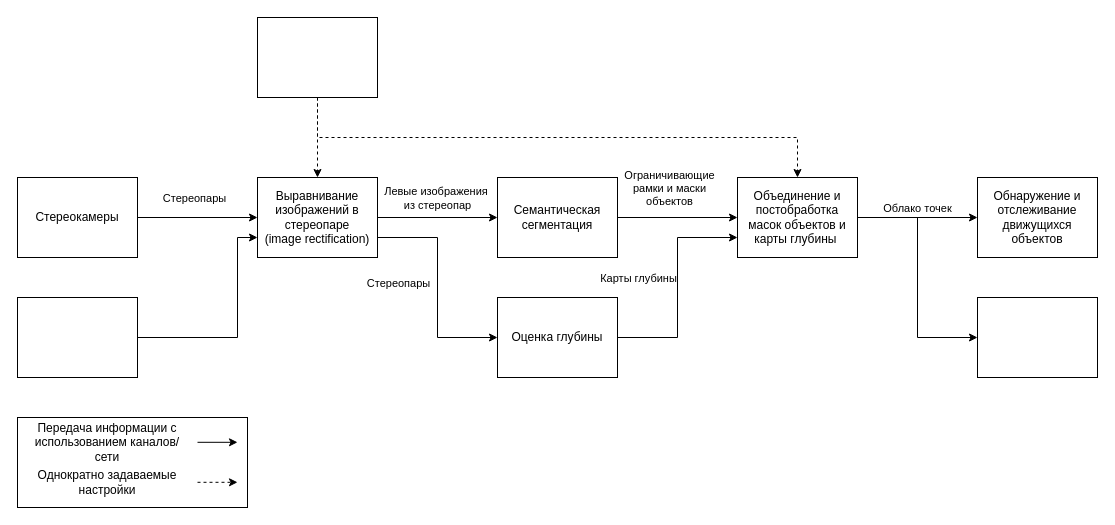
Some shapes in this 1115 by 525 pixel diagram are drawn without their labels. The box of each missing label's shape, as (x1, y1, x2, y2) in pixels:
Обнаружение статичных препятствий: (976, 296, 1098, 378)
Параметры калибровки и положение стереокамер: (256, 16, 378, 98)
Положение автомобиля: (16, 296, 138, 378)
